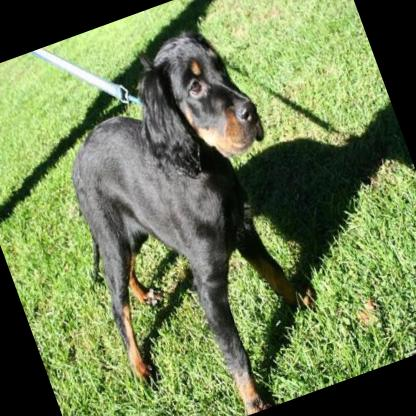Gordon_setter: (21, 20, 350, 416)
